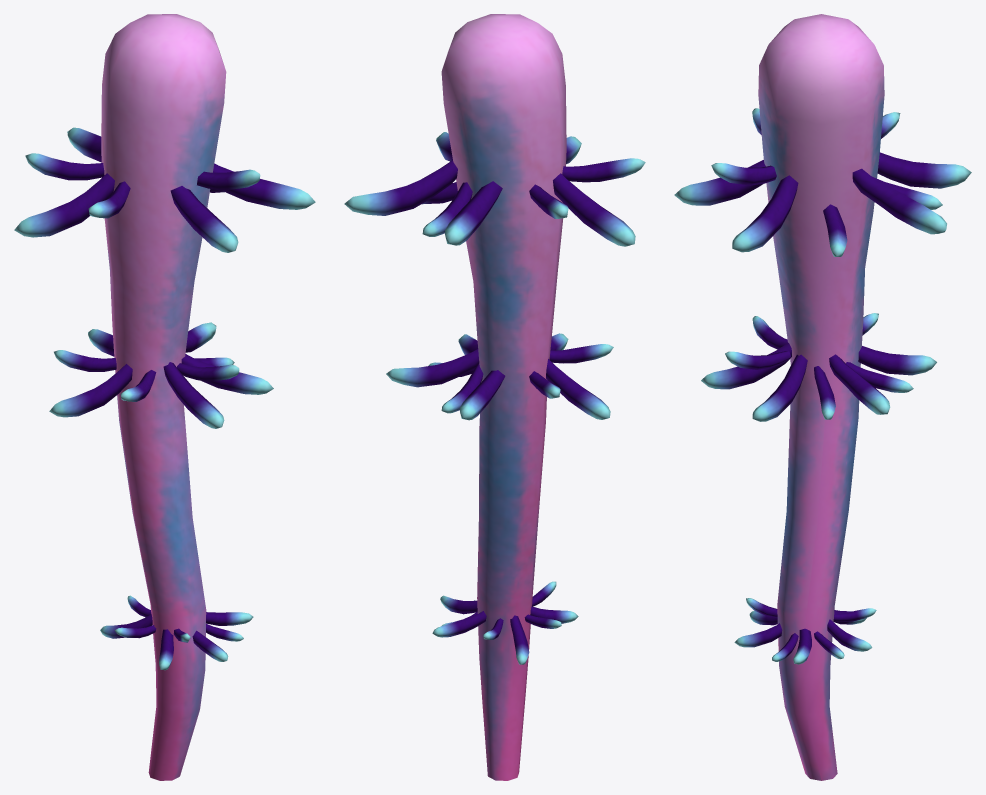
Rendered from Cartoon Seaweed_13-2-6.fbx.
3 views of the same model, side by side, from view 1: azimuth 30°, elevation 25°; view 2: azimuth 150°, elevation 25°; view 3: azimuth 270°, elevation 25° (orthographic).
Parts seen in each view (by area): view 1: Cartoon Seaweed_13.2.6; view 2: Cartoon Seaweed_13.2.6; view 3: Cartoon Seaweed_13.2.6.
Boxes of the visible parts, <box> form: Cartoon Seaweed_13.2.6: <box>14,14,315,780</box>; Cartoon Seaweed_13.2.6: <box>344,14,645,780</box>; Cartoon Seaweed_13.2.6: <box>674,14,971,780</box>.
Size of the model in its own units: 17.94 by 52.43 by 18.75.
1 material, 1 textured.
